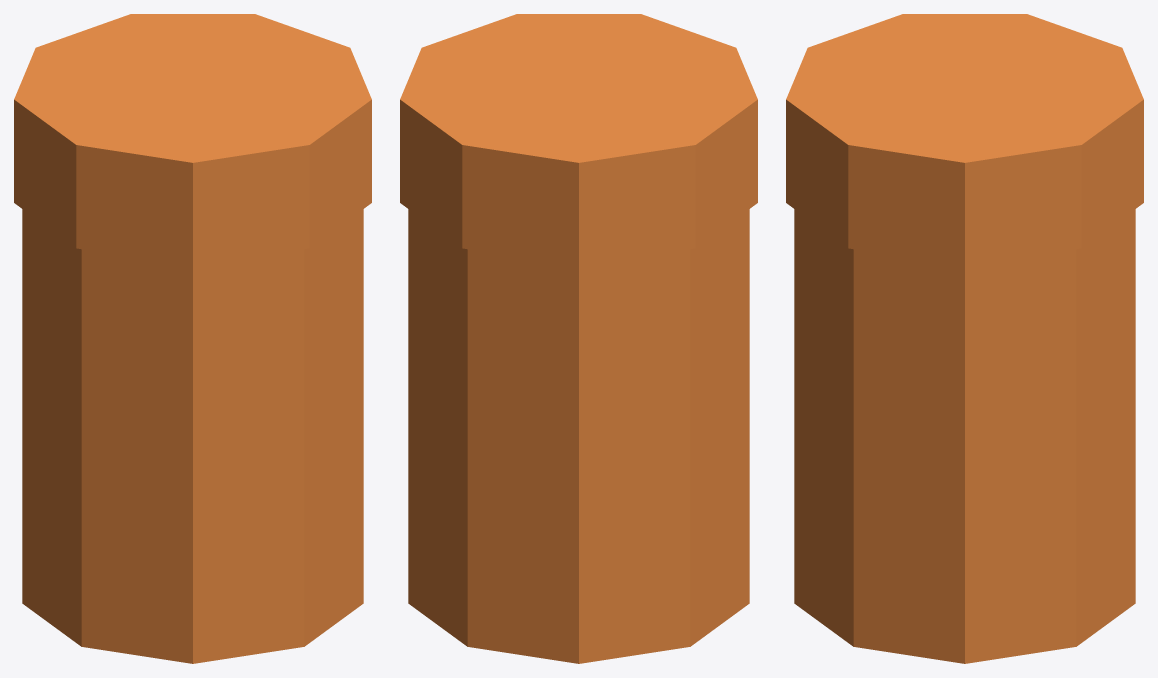
Rendered from Office2_box_4.fbx.
3 renders of one model, left to right at view 1: azimuth 30°, elevation 25°; view 2: azimuth 150°, elevation 25°; view 3: azimuth 270°, elevation 25°, orthographic.
Parts seen in each view (by area): view 1: Office2_box_4; view 2: Office2_box_4; view 3: Office2_box_4.
Part boxes in pixels (x1,y1,x2,y2): Office2_box_4: [14, 14, 371, 663]; Office2_box_4: [400, 14, 757, 663]; Office2_box_4: [786, 14, 1143, 663].
Size of the model in its own units: 11.05 by 17.45 by 11.22.
